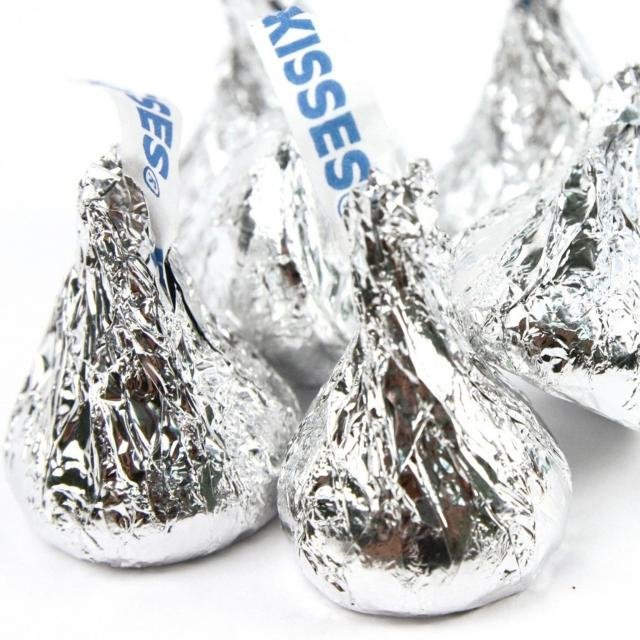kisses: (276, 162, 574, 623), (4, 152, 303, 569), (133, 0, 411, 388), (460, 57, 640, 444)
